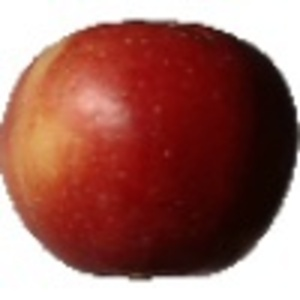maçã braeburn: (1, 17, 299, 280)
